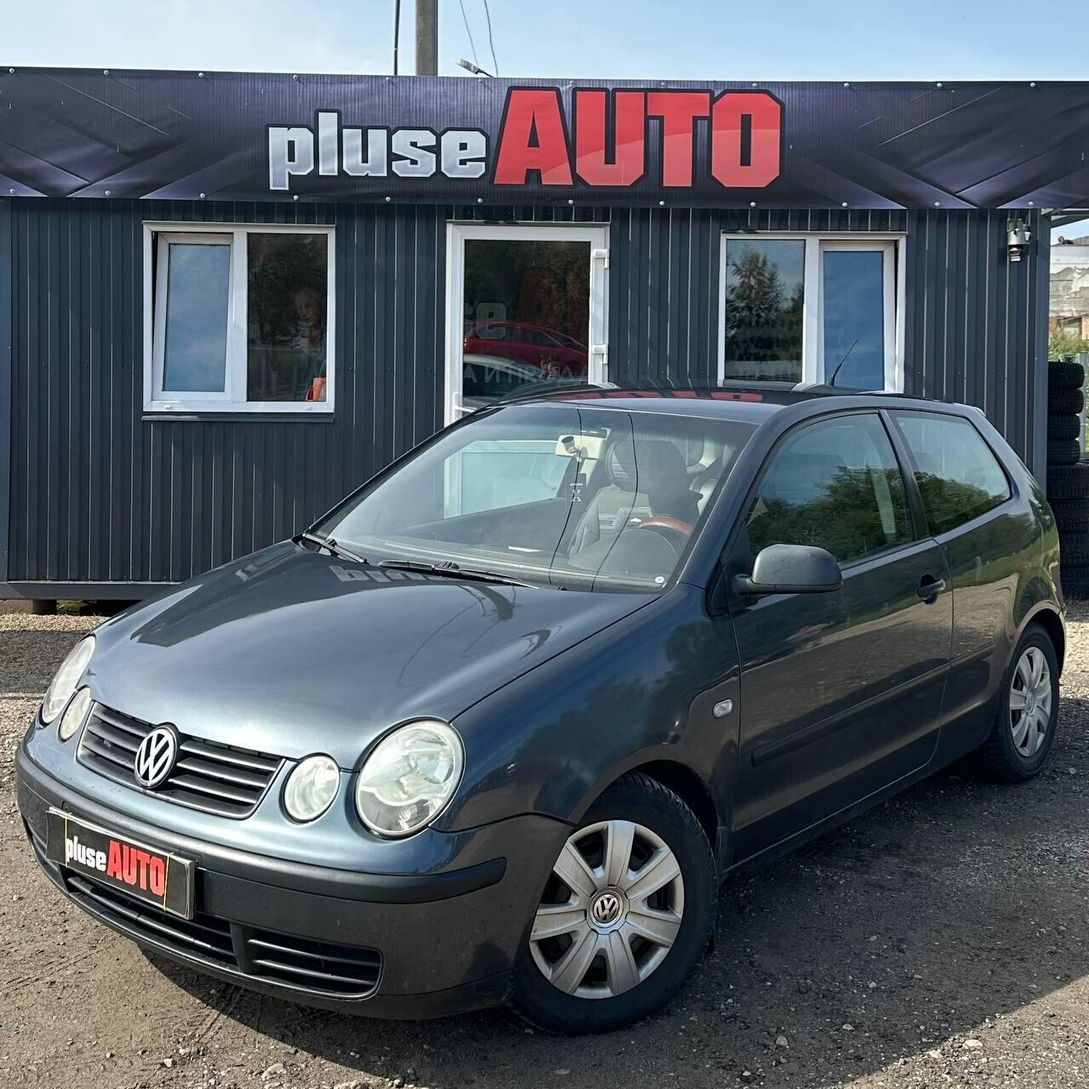Polo_2001-2005: (17, 371, 1070, 1038)
